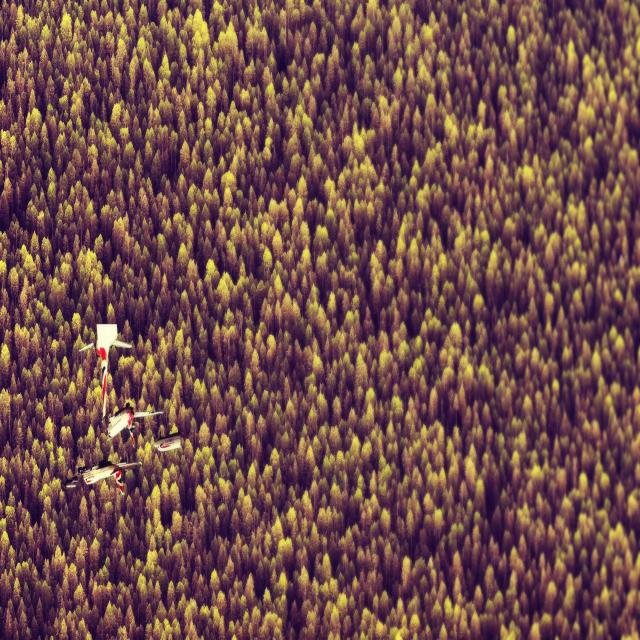airplane: (78, 322, 132, 420), (64, 455, 141, 495), (106, 401, 164, 446), (152, 426, 182, 453)
